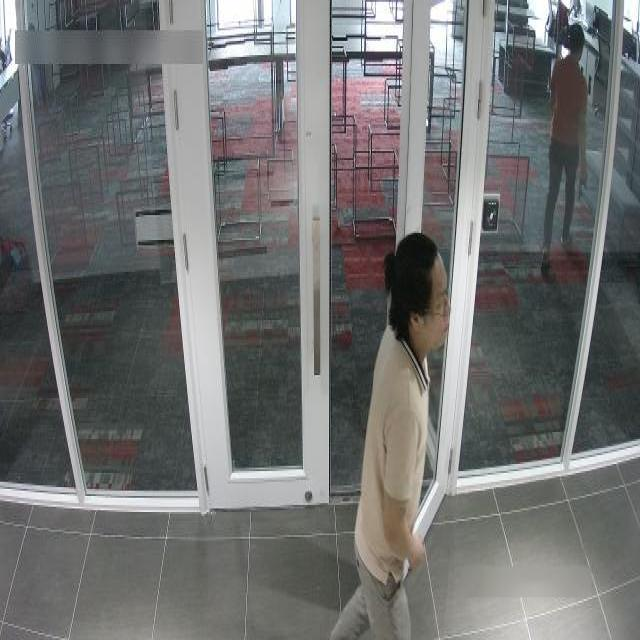bare_hand: (409, 526, 429, 578), (578, 146, 592, 192)
